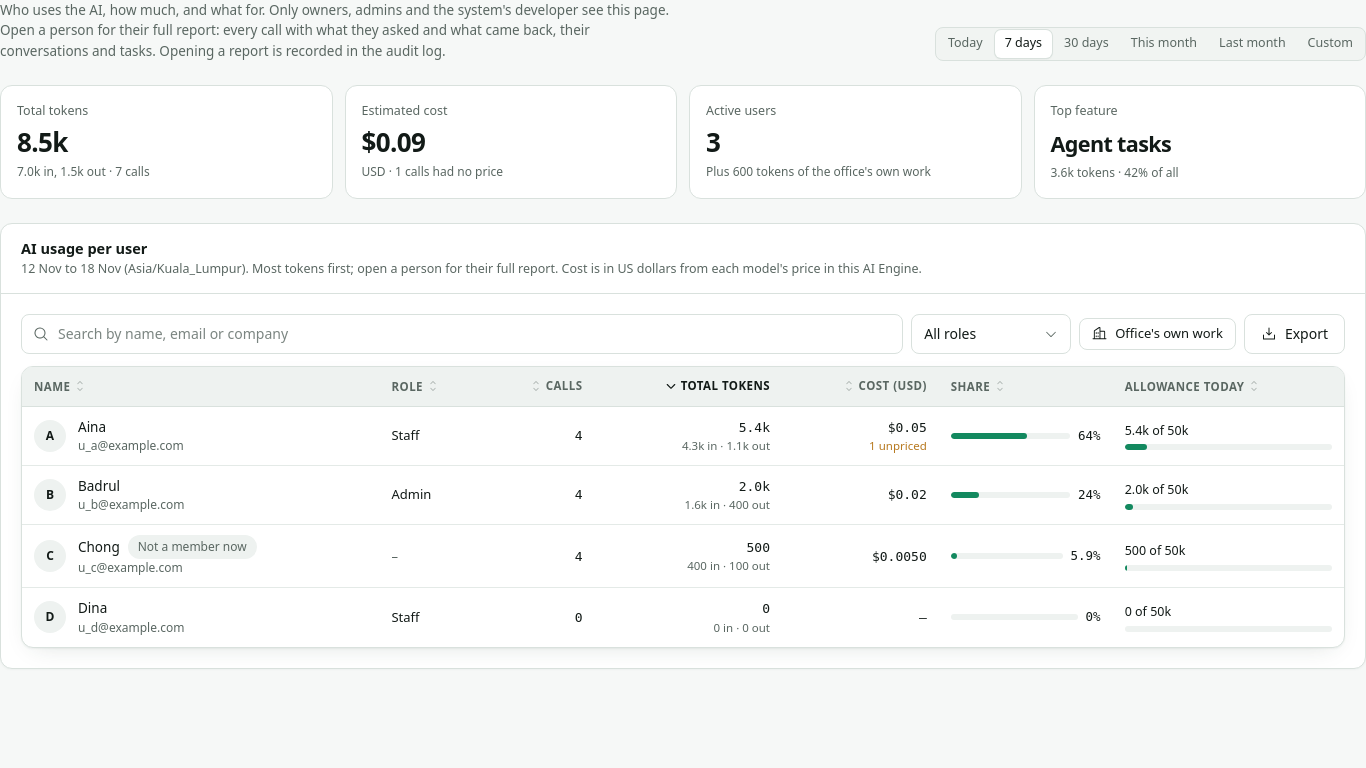
AI usage per user › shows their conversations to read in full, and the tasks their use paid for
This screenshot has width=1366, height=768.
Check: the table named "AI usage per user" is shown, box [22,367,1344,647]
Click the button "A Aina u_a@example.com": [109, 436] box [34,417,184,455]
(page scrolled)
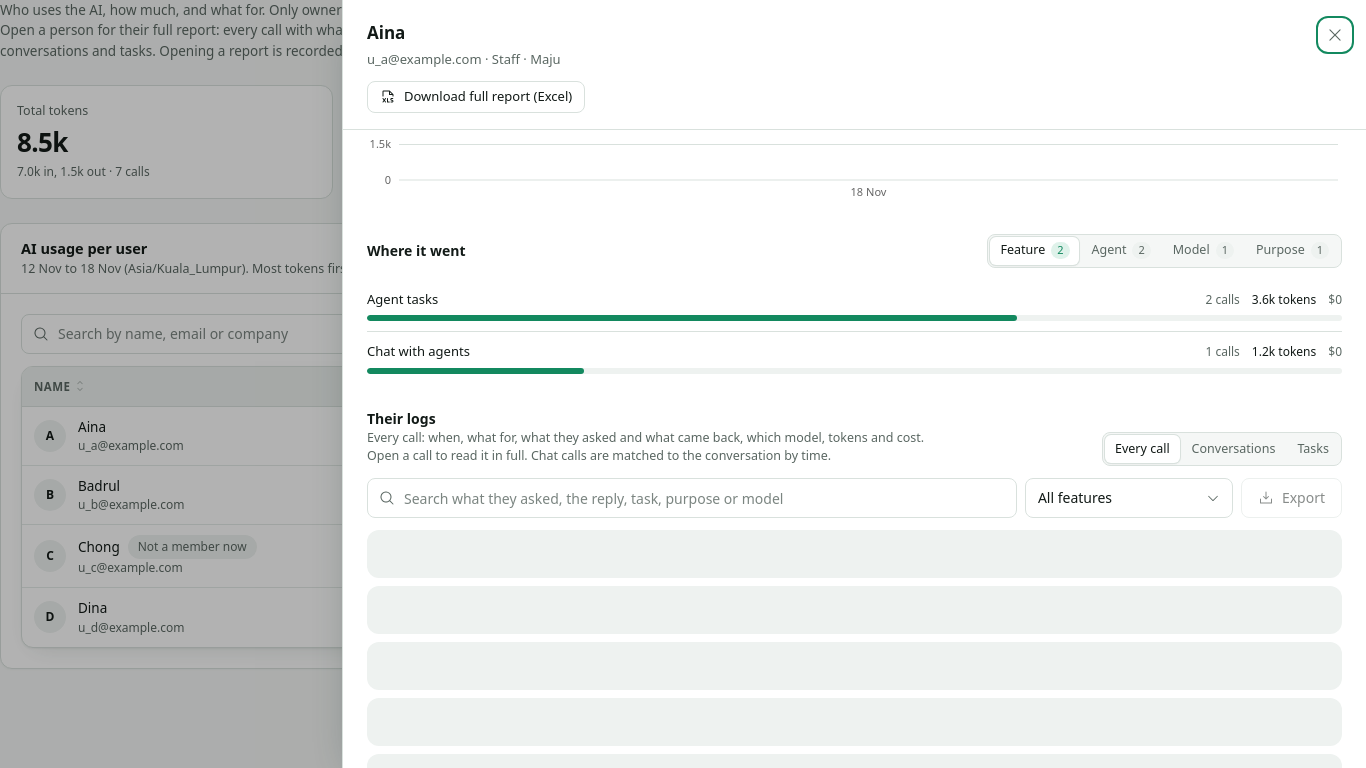
Check: the heading "Their logs" is shown, box [367,408,436,428]
Click the tab "Conversations": [1234, 449] box [1182,435,1285,463]
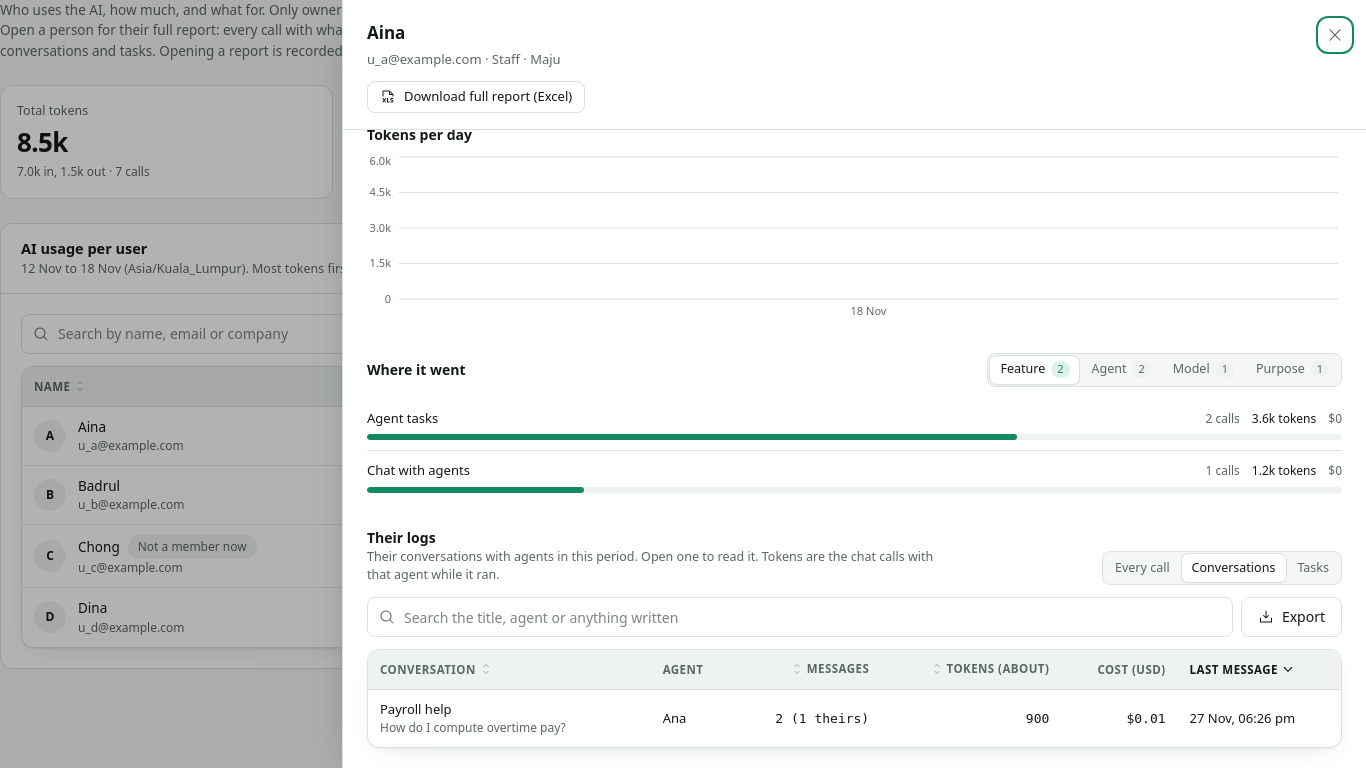
Click the button "Payroll help How do I compute overtime pay?": [473, 719] box [380,700,566,737]
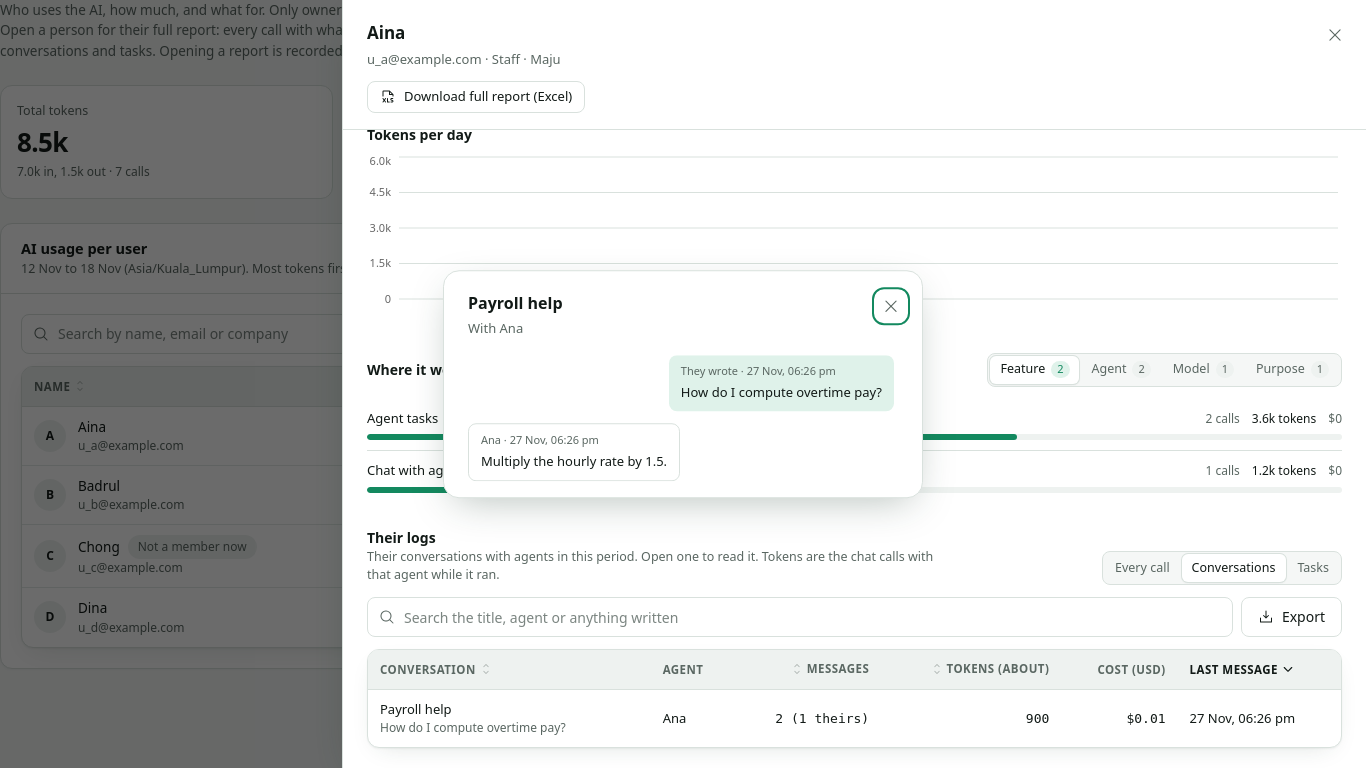
Check: the text "Multiply the hourly rate by 1.5." is shown, box [481,452,667,472]
Press Escape in the button named "Close", box [876,291,906,321]
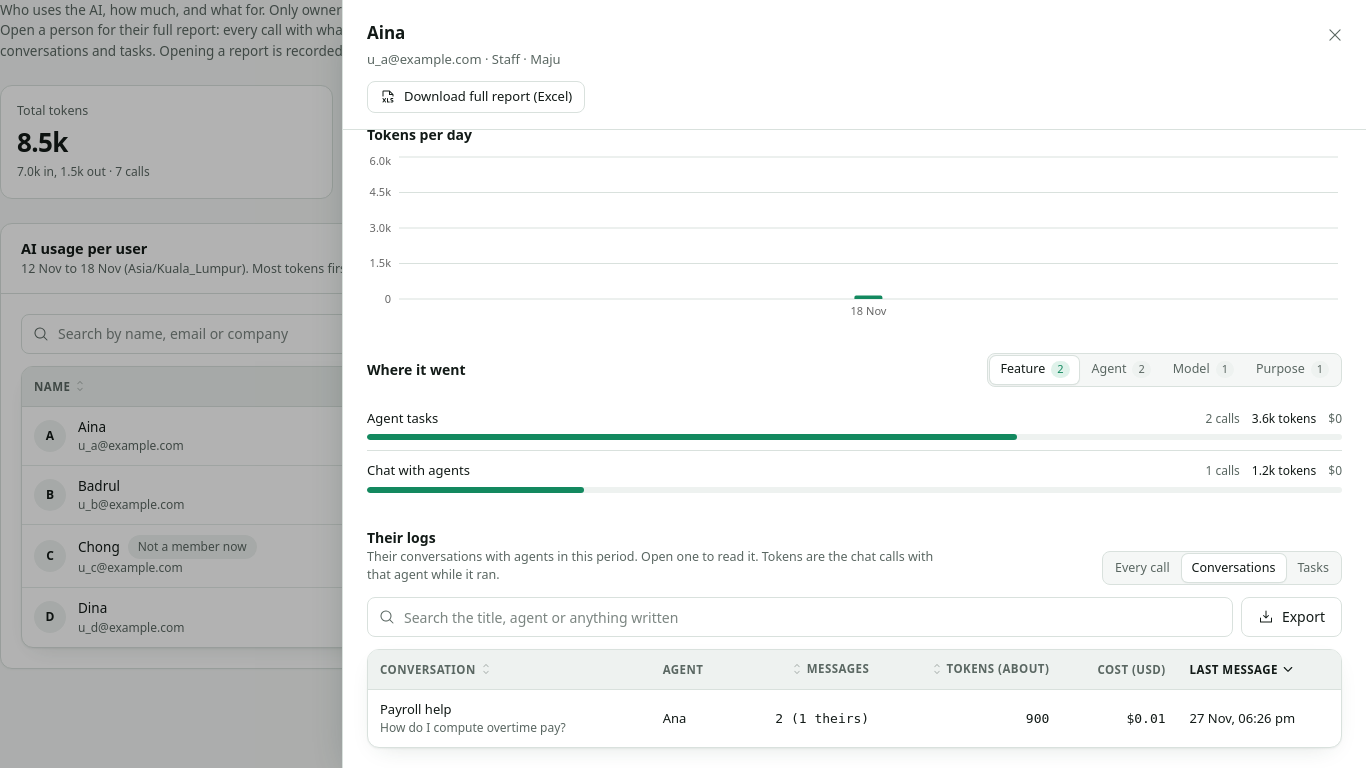
Click the tab "Tasks": [1313, 568] box [1287,554,1339,582]
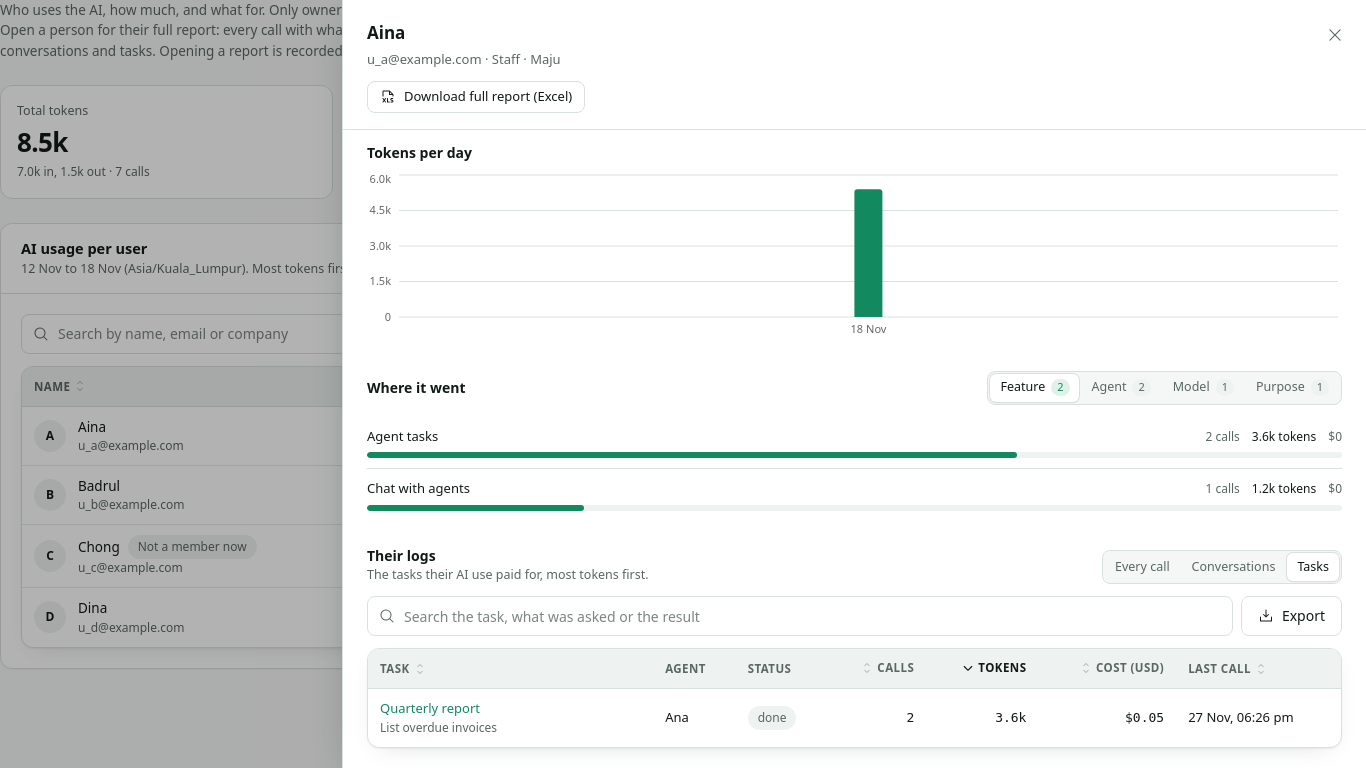
Check: the text "3.6k" is shown, box [995,710,1026,725]
